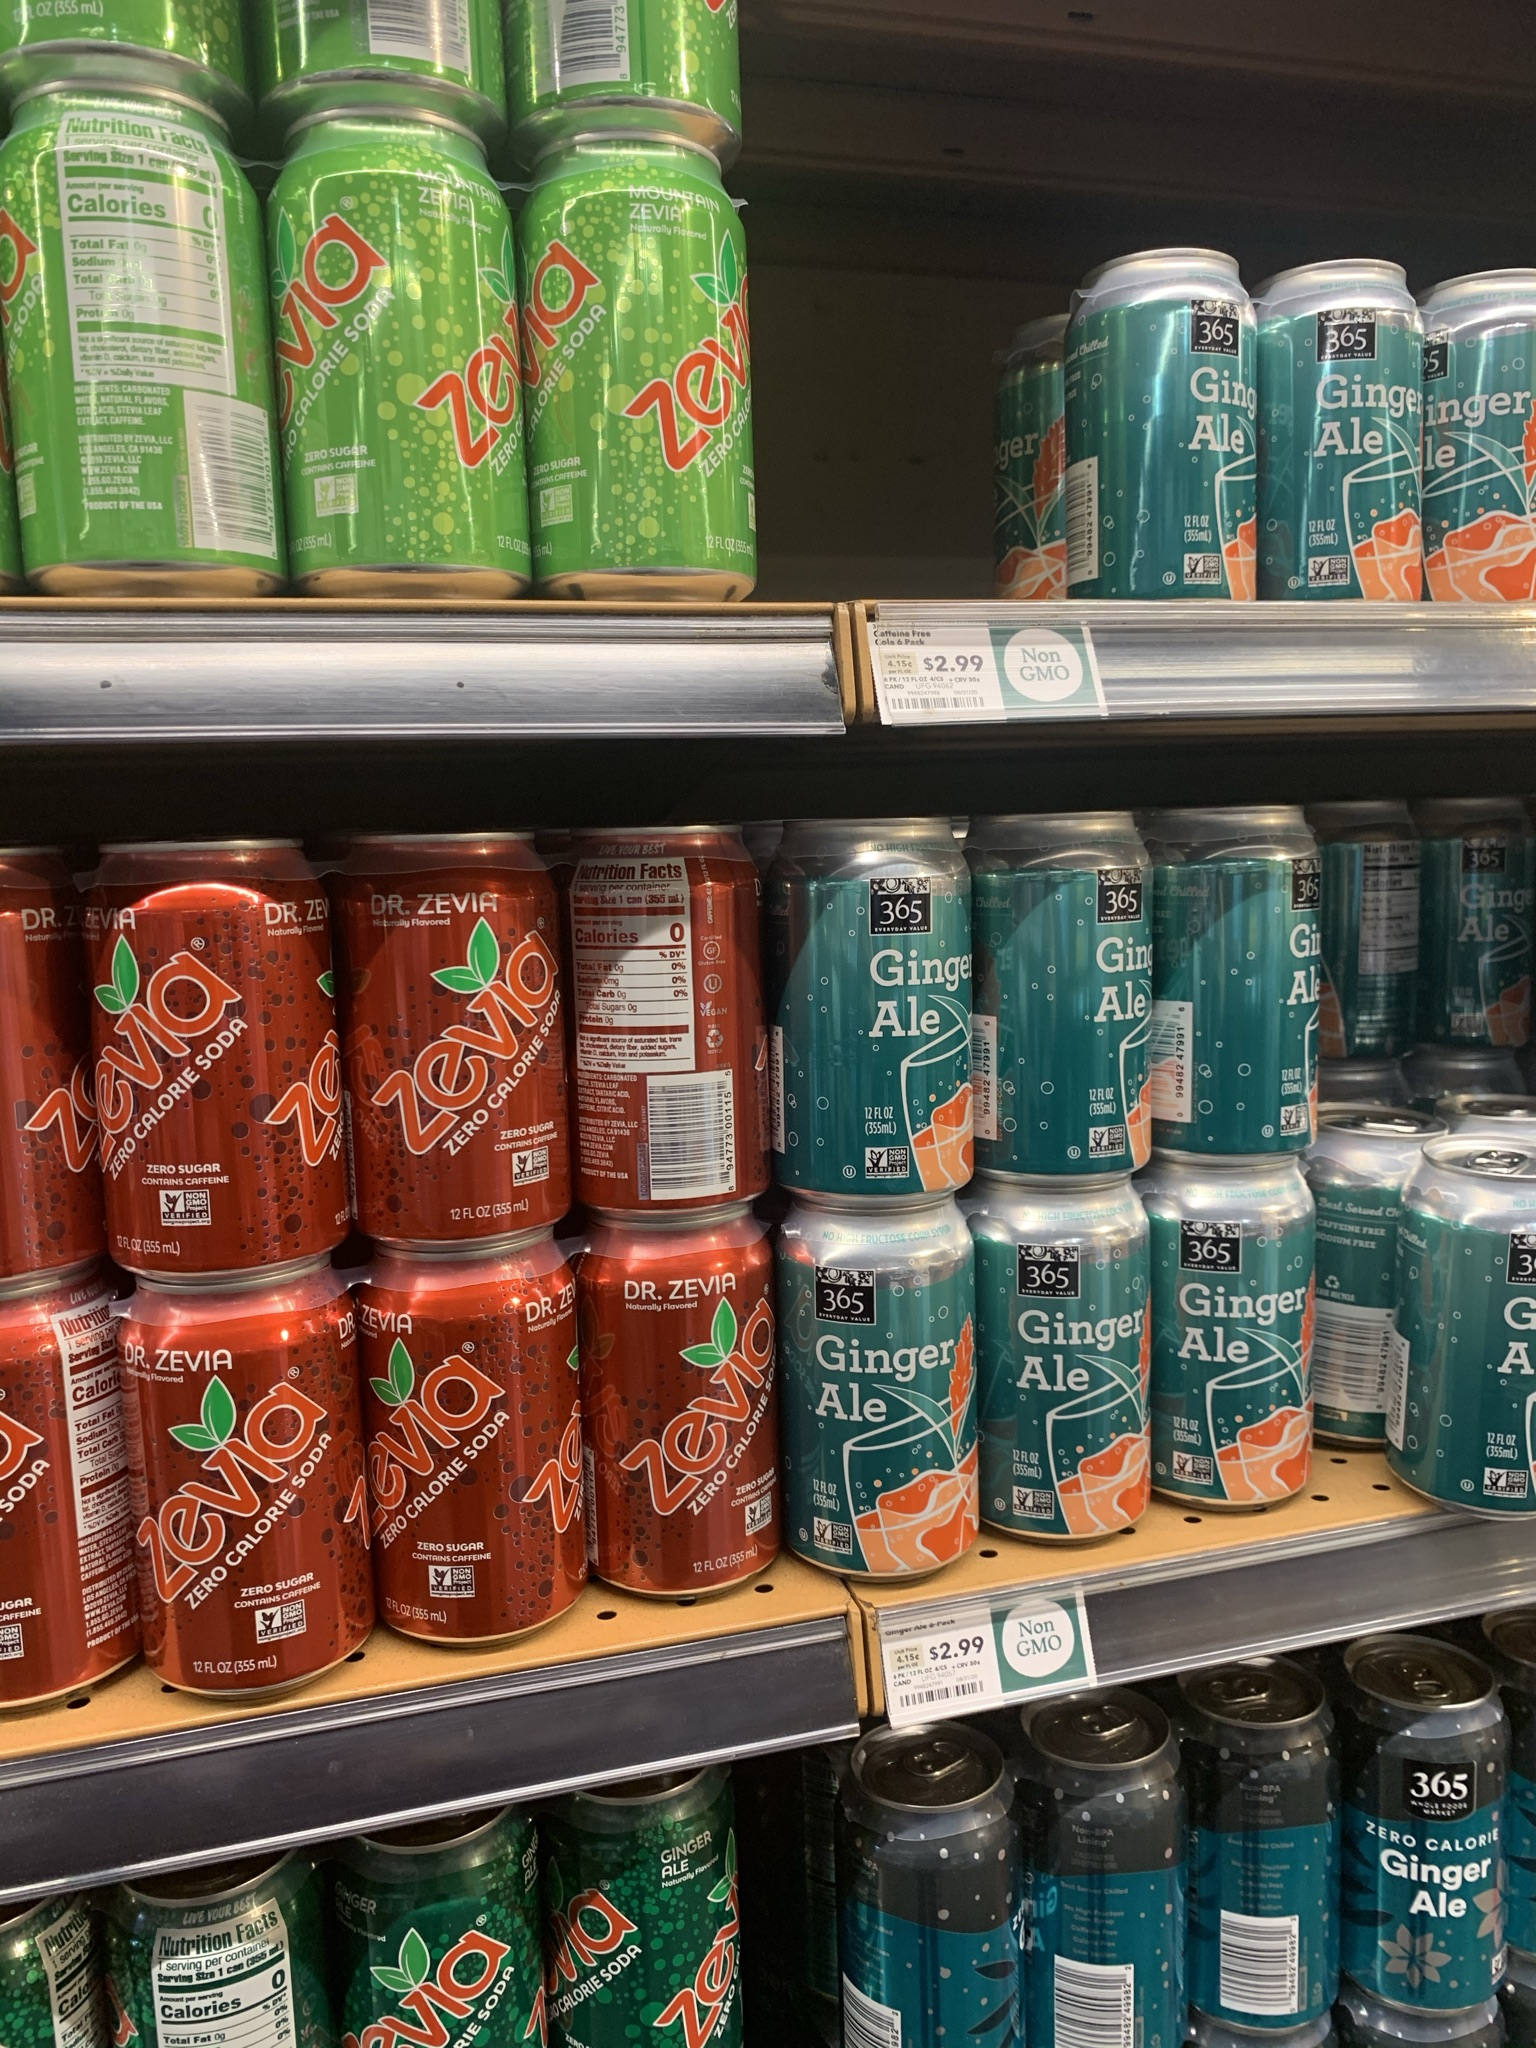can: (2, 81, 266, 601), (266, 103, 528, 595), (74, 834, 340, 1276), (518, 124, 758, 601), (126, 1285, 366, 1692), (340, 830, 566, 1242), (369, 1263, 586, 1643), (766, 814, 973, 1200), (589, 1214, 789, 1593), (570, 824, 765, 1209), (783, 1205, 979, 1580), (1075, 247, 1262, 613), (979, 806, 1155, 1176), (978, 1179, 1150, 1542), (1165, 801, 1326, 1163), (1346, 1680, 1509, 2022), (1265, 258, 1425, 605), (1158, 1159, 1313, 1508), (860, 1792, 1008, 2046), (1425, 268, 1536, 603), (1426, 1177, 1536, 1505), (1058, 1750, 1179, 2037), (1218, 1713, 1325, 2016), (1447, 819, 1531, 1022)
